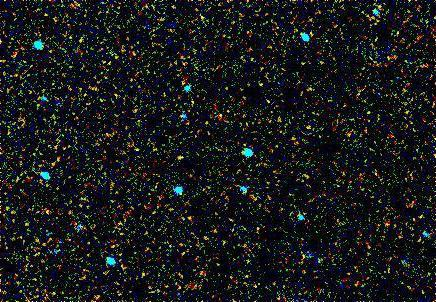star: (164, 147, 194, 177)
